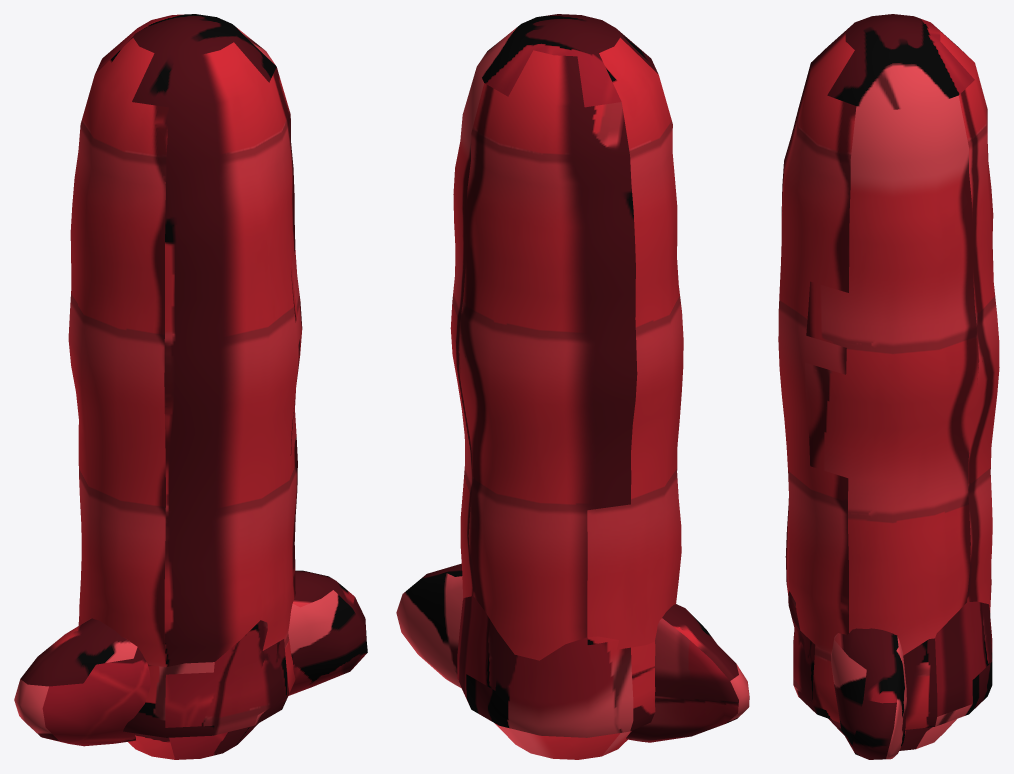
Rendered from kagune_rinkaku.obj.
3 views of the same model, side by side, from view 1: azimuth 30°, elevation 25°; view 2: azimuth 150°, elevation 25°; view 3: azimuth 270°, elevation 25° (orthographic).
Parts seen in each view (by area): view 1: RinkakuSeg1, Kakuhou, RinkakuSeg2; view 2: RinkakuSeg1, RinkakuSeg2, Kakuhou; view 3: RinkakuSeg1, RinkakuSeg2, Kakuhou.
Boxes of the visible parts, x1=… form: RinkakuSeg1: x1=68, y1=14, x2=302, y2=667; Kakuhou: x1=14, y1=570, x2=367, y2=746; RinkakuSeg2: x1=78, y1=616, x2=295, y2=759; RinkakuSeg1: x1=450, y1=14, x2=683, y2=660; RinkakuSeg2: x1=457, y1=596, x2=655, y2=759; Kakuhou: x1=396, y1=563, x2=749, y2=742; RinkakuSeg1: x1=778, y1=14, x2=999, y2=655; RinkakuSeg2: x1=788, y1=591, x2=992, y2=750; Kakuhou: x1=831, y1=628, x2=907, y2=759.
Size of the model in its own units: 1.35 by 2.73 by 0.759.
